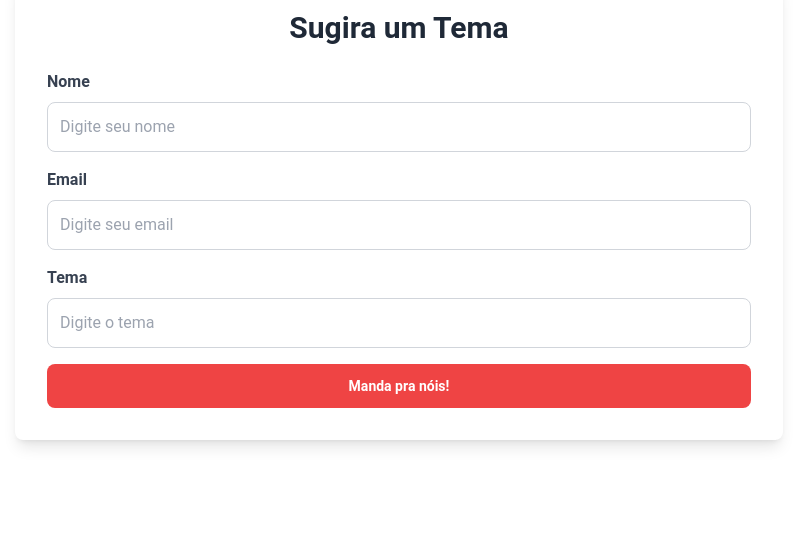
Test case: forms › preserves suggestion input when submission fails
This screenshot has width=799, height=544.
Step 1. Type "Teste" into the field labelled "Nome" → coordinates (399, 127), box [47,102,751,152]
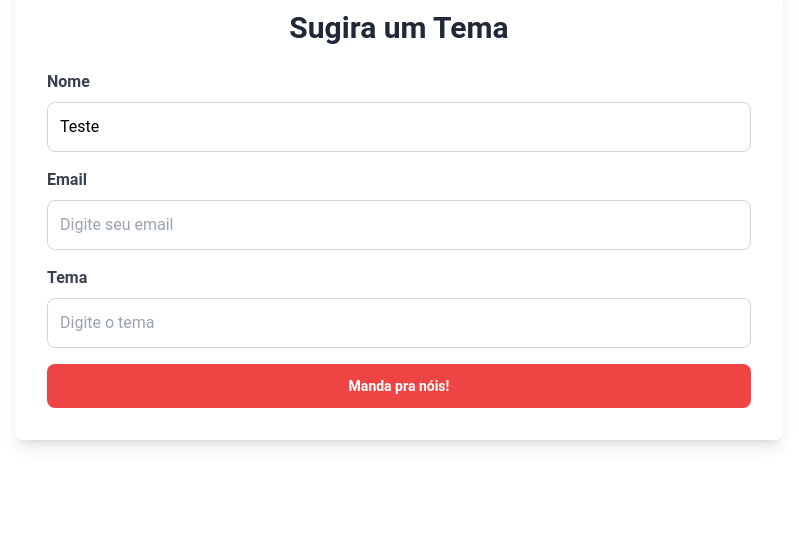
Step 2. Type "teste@example.com" into the field labelled "Email" → coordinates (399, 225), box [47,200,751,250]
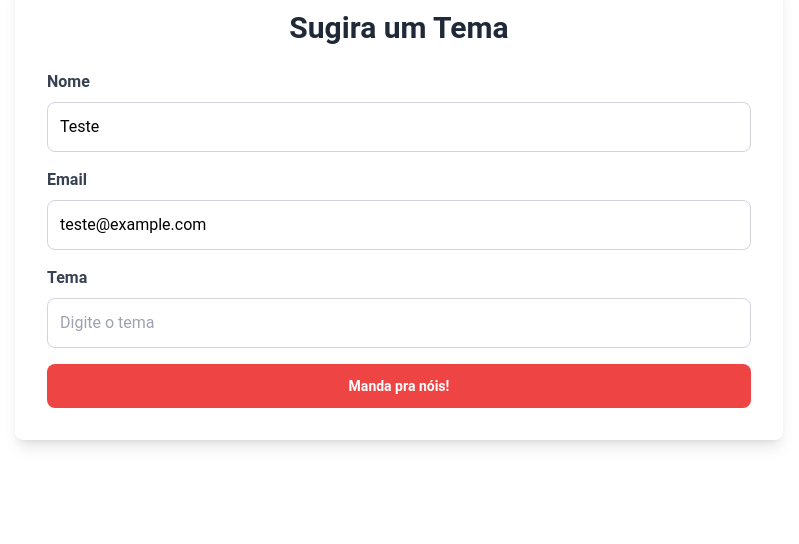
Step 3. Type "Ciência" into the field labelled "Tema" → coordinates (399, 323), box [47,298,751,348]
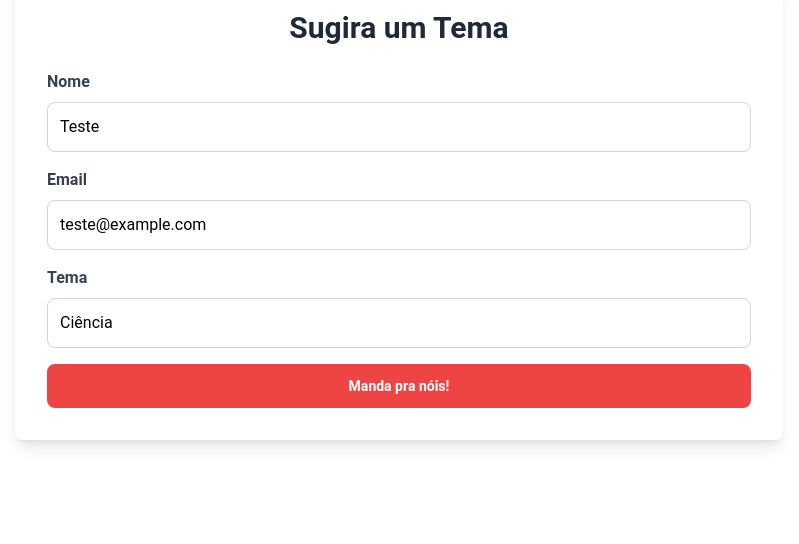
Step 4. Click the button "Manda pra nóis!" → coordinates (399, 386), box [47,364,751,408]
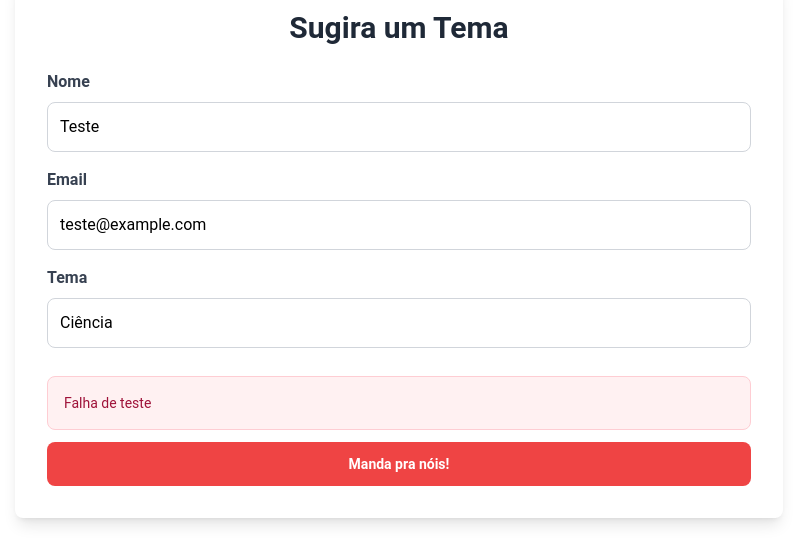
Check: the message "Falha de teste" is shown, box [47,376,751,430]
